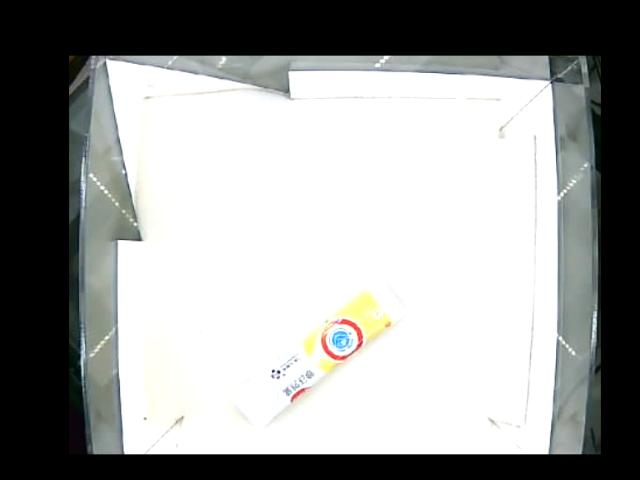Medicine: (231, 281, 408, 424)
